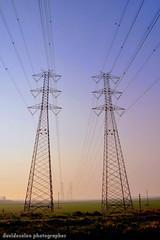power_tower: (88, 70, 137, 213), (19, 68, 63, 215)
